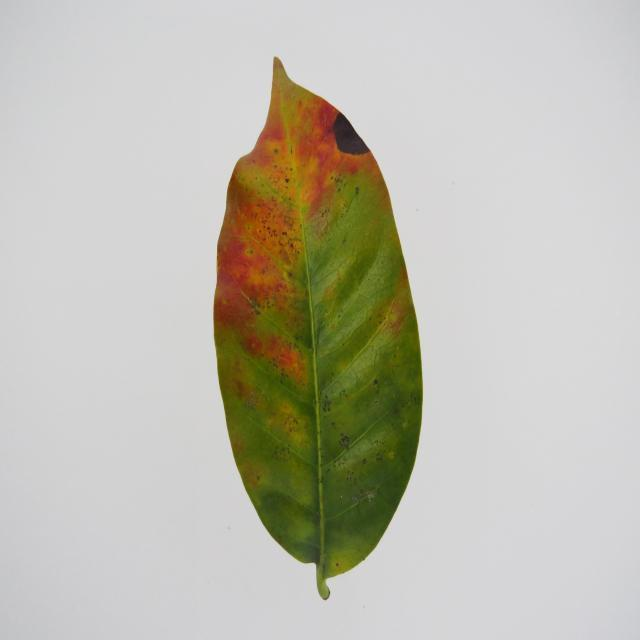DeficienciaNutricional-Fosforo: (214, 58, 422, 598)
